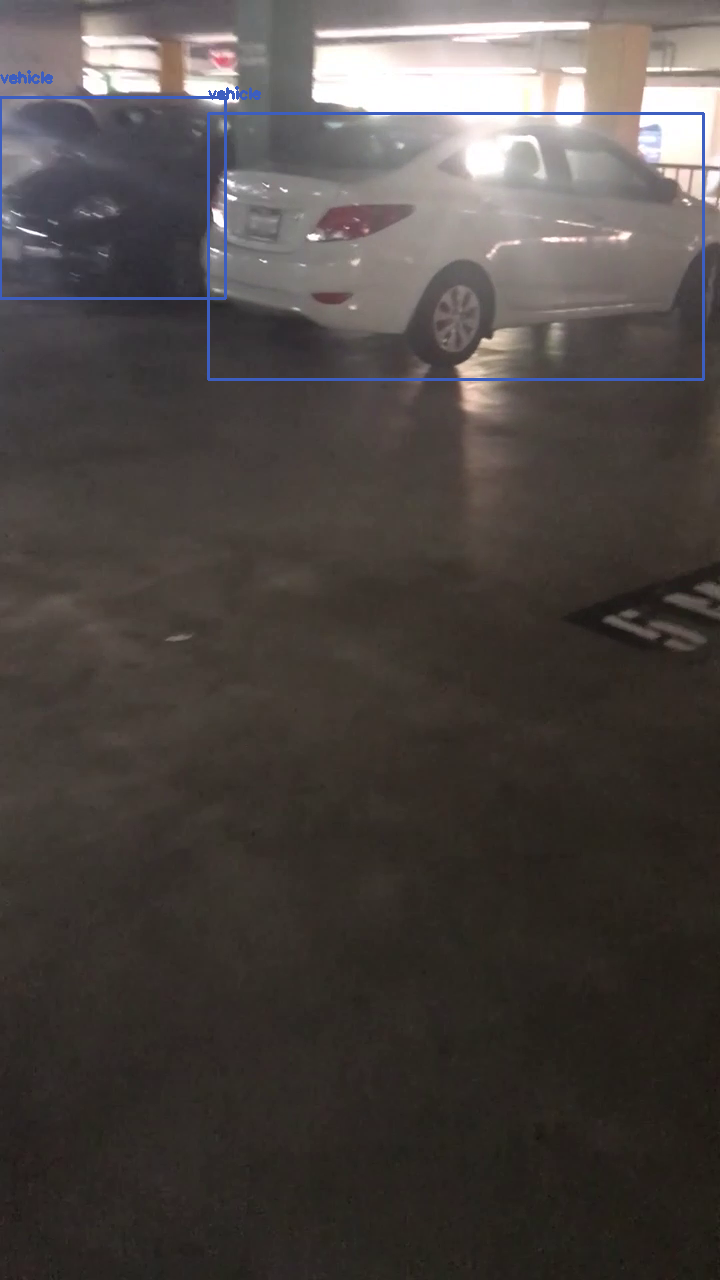vehicle: (208, 113, 703, 379), (0, 97, 225, 298)
